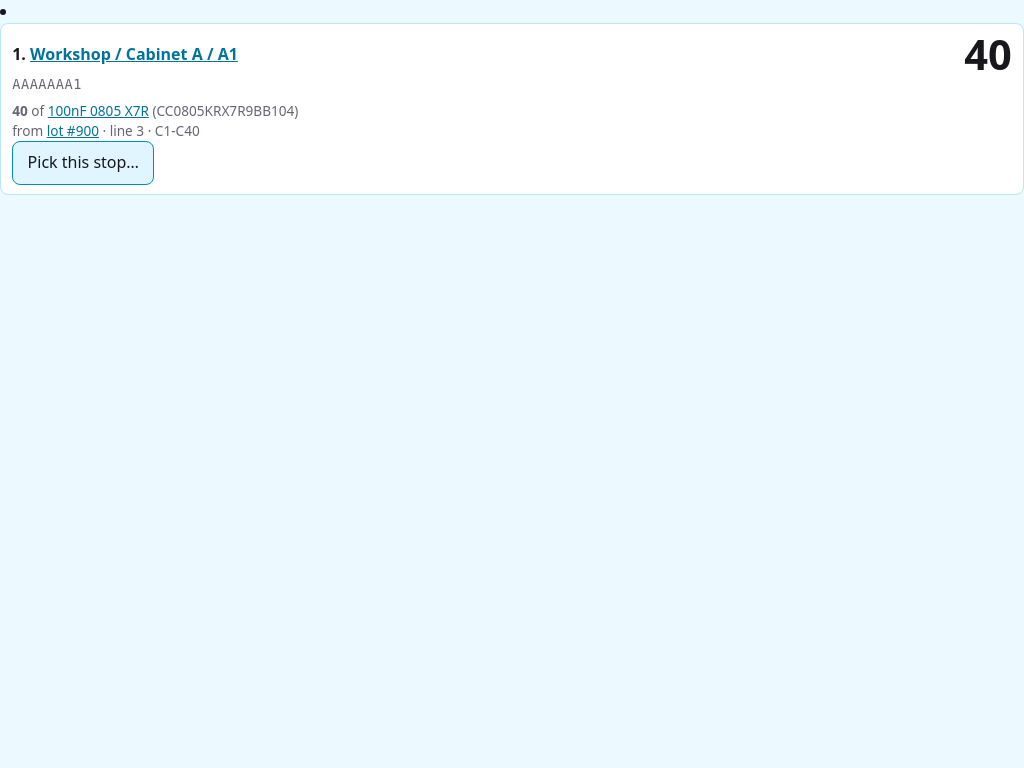
Test: picking a stop › offers the optical counter as unavailable rather than as a dead button
Click the button "Pick this stop…".
click(83, 163)  # box x1=12 y1=141 x2=154 y2=185
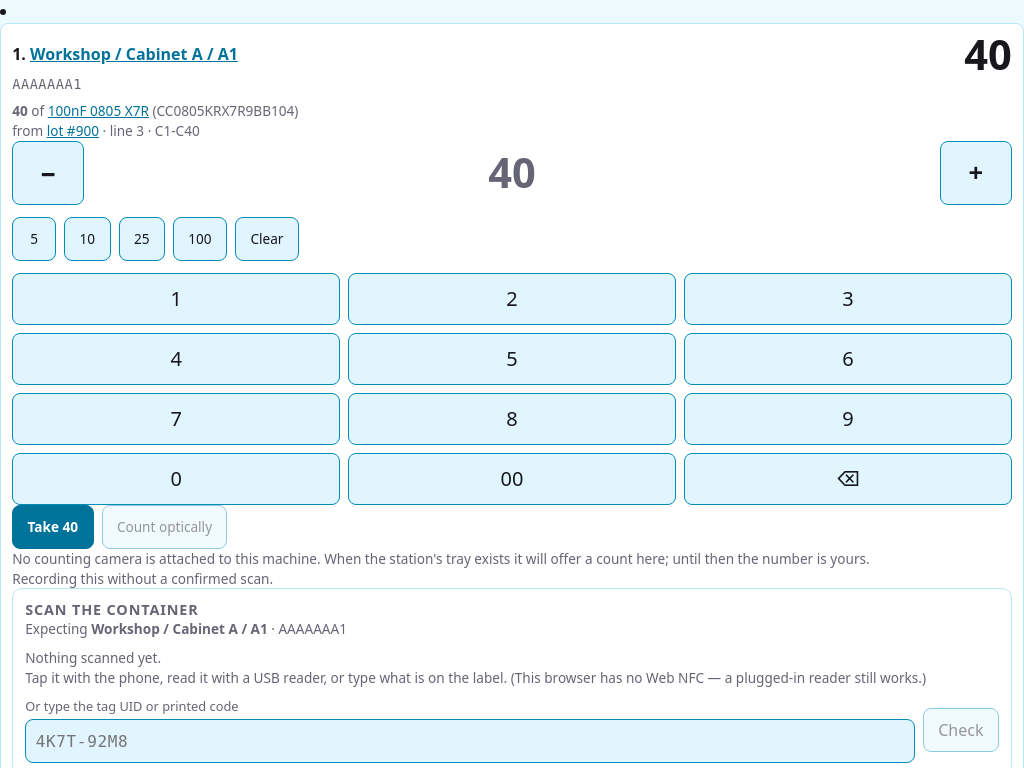
Result: the button "Count optically" is disabled at x1=102 y1=505 x2=227 y2=549
Result: the text "No counting camera is attached" is shown at x1=12 y1=549 x2=870 y2=568
